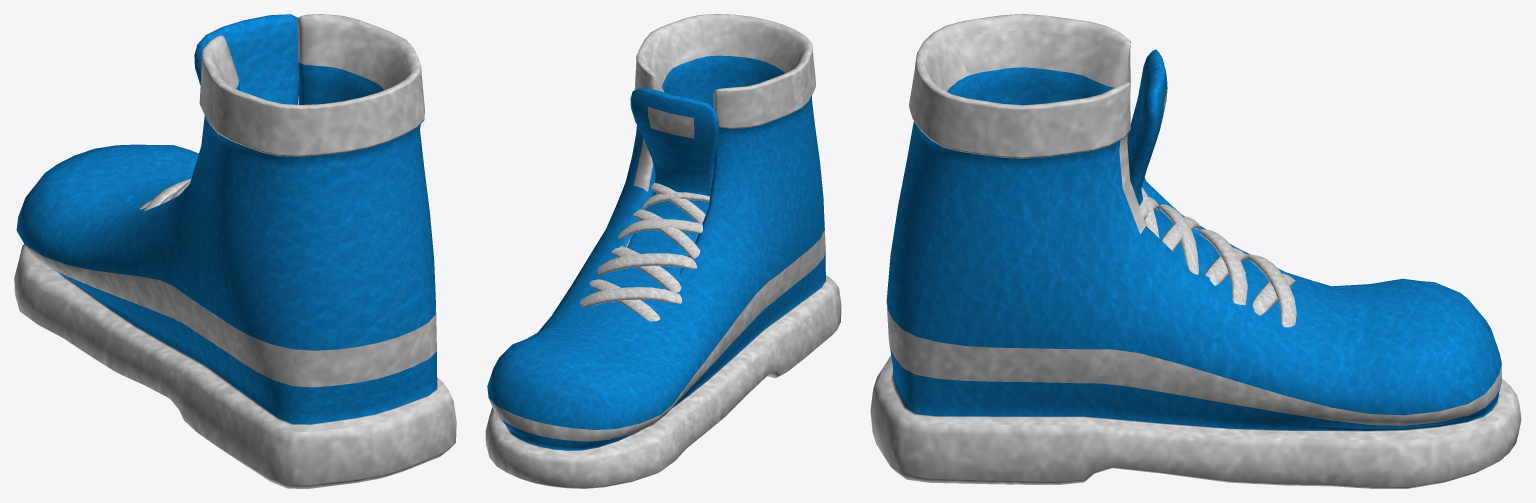
The model's file is boot 1.fbx.
3 renders of one model, left to right at view 1: azimuth 30°, elevation 25°; view 2: azimuth 150°, elevation 25°; view 3: azimuth 270°, elevation 25°, orthographic. The views are drawn at different scales.
Visible parts, largest first — view 1: polySurface13; view 2: polySurface13; view 3: polySurface13.
Part boxes in pixels (<box>): polySurface13: <box>14,14,456,488</box>; polySurface13: <box>485,14,841,488</box>; polySurface13: <box>870,14,1521,488</box>.
Bounding box in the file's own units: 2.68 × 4.41 × 6.86.
